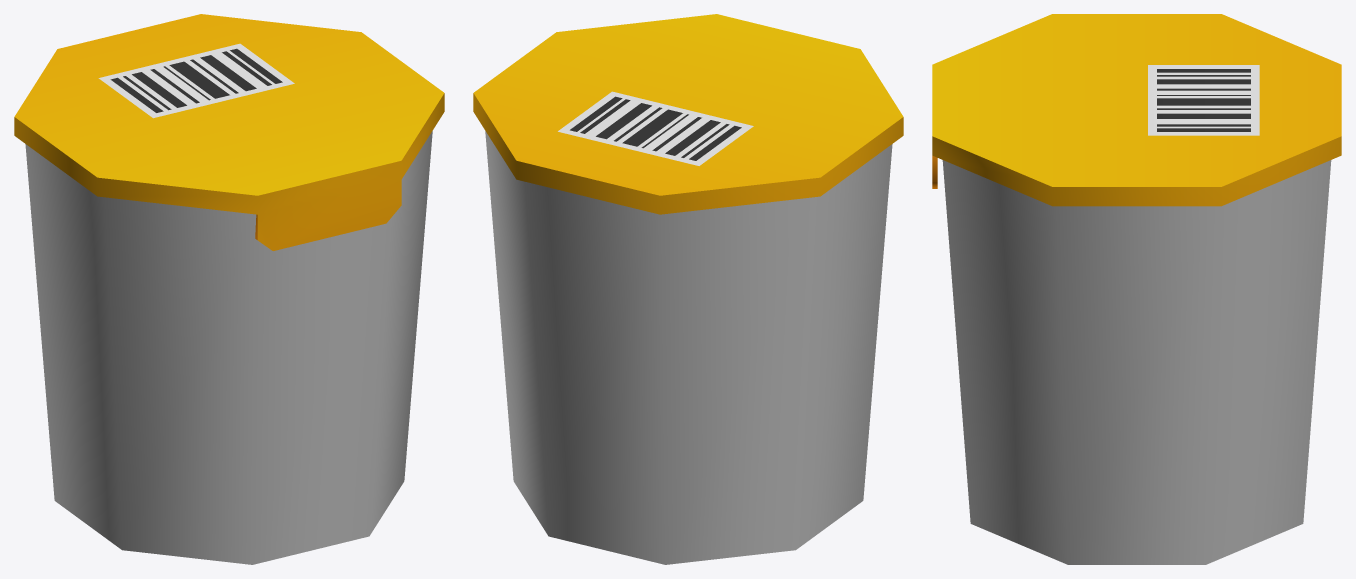
File: CR_caf_cupfood_001.FBX
The picture shows the model from 3 angles, left to right: view 1: azimuth 30°, elevation 25°; view 2: azimuth 150°, elevation 25°; view 3: azimuth 270°, elevation 25°; orthographic projection. The views are drawn at different scales.
Parts seen in each view (by area): view 1: CR_caf_cupfood_001_al, CR_caf_cupfood_001; view 2: CR_caf_cupfood_001_al, CR_caf_cupfood_001; view 3: CR_caf_cupfood_001_al, CR_caf_cupfood_001.
Part boxes in pixels (x1,y1,x2,y2): CR_caf_cupfood_001_al: [25, 131, 432, 564]; CR_caf_cupfood_001: [14, 14, 444, 250]; CR_caf_cupfood_001_al: [485, 131, 892, 564]; CR_caf_cupfood_001: [473, 14, 903, 214]; CR_caf_cupfood_001_al: [942, 160, 1331, 564]; CR_caf_cupfood_001: [932, 14, 1341, 206].
Bounding box in the file's own units: 7.65 × 8.14 × 7.65.
